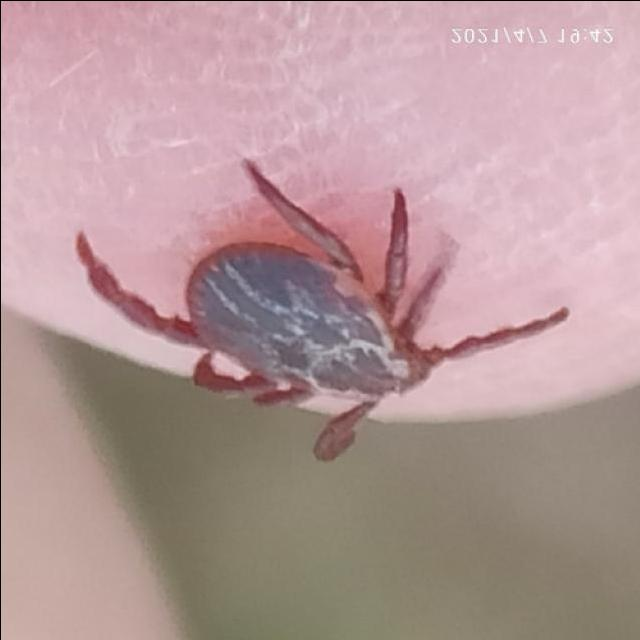Dermacentor Reticulatus-M: (74, 160, 566, 458)
